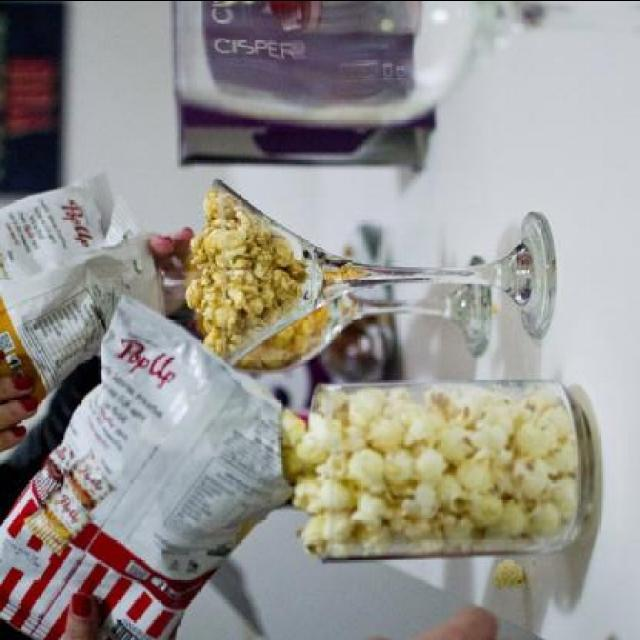Popcorn: (284, 382, 580, 556)
